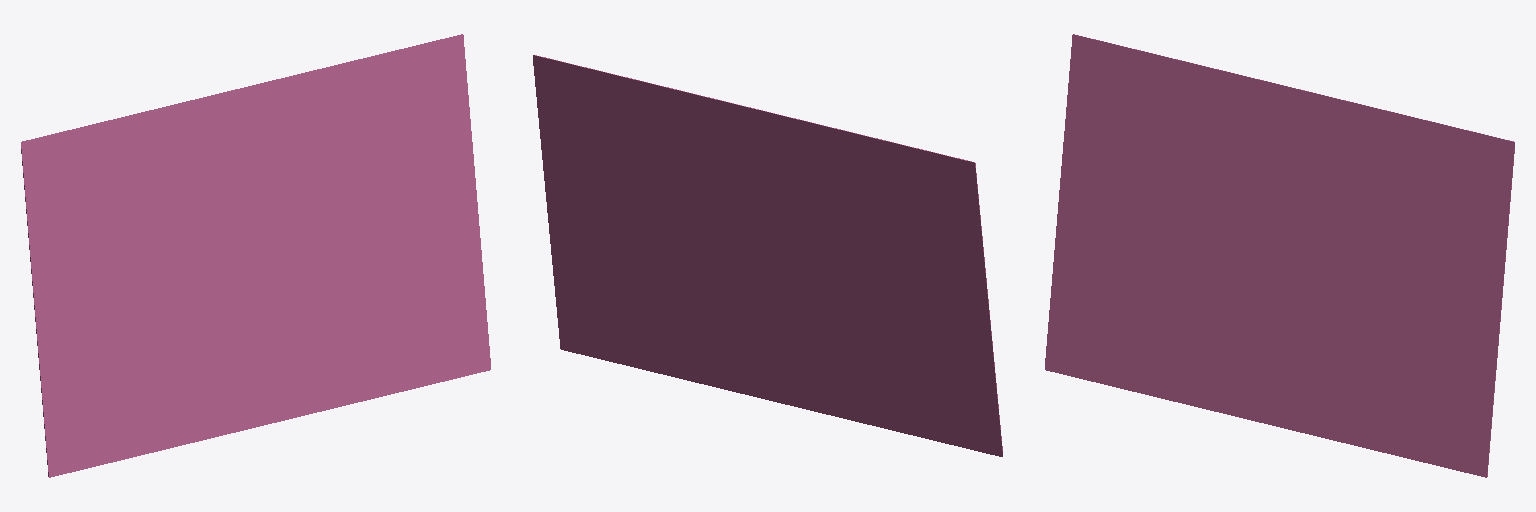
The robot description file, URDF, robot "rsc":
<?xml version="1.0" encoding="utf-8"?>
<robot name="rsc">

  <!-- Define materials -->
<material name="blue">
  <color rgba="0 0 0.8 1"/>
</material>

<material name="white">
  <color rgba="0.9 0.9 0.9 1"/>
</material>

<material name="black">
  <color rgba="0 0 0 1"/>
</material>

<material name="red">
  <color rgba="1 0 0 1"/>
</material>

<material name="yellow">
  <color rgba="1 1 0 1"/>
</material>

<material name="green">
  <color rgba="0 1 0 1"/>
</material>

<material name="orange">
  <color rgba="1 0.65 0 1"/>
</material>

<material name="purple">
  <color rgba="0.5 0 0.5 1"/>
</material>

<material name="gray">
  <color rgba="0.5 0.5 0.5 1"/>
</material>

<material name="cyan">
  <color rgba="0 1 1 1"/>
</material>

<material name="pink">
  <color rgba="1 0.75 0.8 1"/>
</material>

<material name="joy">
  <texture filename="package://my_robot_sim/textures/joy.png"/>
</material>

<material name="anger">
  <texture filename="package://my_robot_sim/textures/anger.png"/>
</material>

<material name="pride">
  <texture filename="package://my_robot_sim/textures/pride.png"/>
</material>

<material name="surprise">
  <texture filename="package://my_robot_sim/textures/surprise.png"/>
</material>

<material name="caring">
  <texture filename="package://my_robot_sim/textures/caring.png"/>
</material>

<material name="fun">
  <texture filename="package://my_robot_sim/textures/fun.png"/>
</material>

  <!-- Base Link -->
  <link name="base_link">
    <visual>
      <origin xyz="-0.6 0.44 0.4" rpy="1.5708 0 0"/>
      <geometry>
        <mesh filename="package://my_robot_sim/meshes/body2.STL" scale="0.01 0.01 0.01" />
      </geometry>
      <material name="blue"/>
    </visual>
    <collision>
      <geometry>
        <mesh filename="package://my_robot_sim/meshes/body2.STL" scale="0.01 0.01 0.01" />
      </geometry>
    </collision>
  </link>

  <!-- Arm 1 Link -->
  <link name="arm_1">
    <visual>
      <origin xyz="-0.55 -0.19 -0.55" rpy="-1.5708 3.14 0"/> <!-- Define the visual origin of arm_1 -->
      <geometry>
        <mesh filename="package://my_robot_sim/meshes/rsc_flipperv8.STL" scale="0.01 0.01 0.01"/>
      </geometry>
      <material name="white"/>
    </visual>
    <collision>
      <geometry>
        <mesh filename="package://my_robot_sim/meshes/rsc_flipperv8.STL" scale="0.01 0.01 0.01"/>
      </geometry>
    </collision>
  </link>

  <!-- Joint for Arm 1 Rotation Around X-Axis Center -->
  <joint name="arm1_to_pivot" type="continuous">
    <parent link="base_link"/>
    <child link="arm_1"/>
    <origin xyz="0 0.05 0.9" rpy="0 0 0"/> <!-- Center the rotation around arm_1’s origin -->
    <axis xyz="1 0 0"/> <!-- Set rotation around x-axis -->
  </joint>





  <!-- Arm 2 Link -->
  <link name="arm_2">
    <visual>
    <origin xyz="+0.55 0.19 -0.55" rpy="1.5708 0 0"/>
      <geometry>
        <mesh filename="package://my_robot_sim/meshes/rsc_flipperv8.STL" scale="0.01 0.01 0.01"/>
      </geometry>
      <material name="white"/>
    </visual>
    <collision>
      <geometry>
        <mesh filename="package://my_robot_sim/meshes/rsc_flipperv8.STL" scale="0.01 0.01 0.01"/>
      </geometry>
    </collision>
  </link>

  <!-- Joint for Arm 1 Rotation Around X-Axis Center -->
  <joint name="arm2_to_pivot" type="continuous">
    <parent link="base_link"/>
    <child link="arm_2"/>
    <origin xyz="0 0.05 0.9" rpy="0 0 0"/> <!-- Center the rotation around arm_1’s origin -->
    <axis xyz="1 0 0"/> <!-- Set rotation around x-axis -->
  </joint>

  <link name="base">
    <visual>
      <origin xyz="-0.55 0.6 0.09" rpy="1.5708 0 0"/>
      <geometry>
        <mesh filename="package://my_robot_sim/meshes/base.STL" scale="0.01 0.01 0.01" />
      </geometry>
      <material name="blue"/>
    </visual>
    <collision>
      <geometry>
        <mesh filename="package://my_robot_sim/meshes/base.STL" scale="0.01 0.01 0.01" />
      </geometry>
    </collision>
  </link>
  
  <joint name="base_to_body" type="fixed">
     <parent link="base" />
     <child link="base_link" />
     <origin xyz="0 0 0" rpy="0 0 0" />
</joint>

  <link name="cornice">
    <visual>
      <origin xyz="-0.458 -0.20 0.42" rpy="1.39 0 0"/>
      <geometry>
        <mesh filename="package://my_robot_sim/meshes/cornice.STL" scale="0.01 0.01 0.01" />
      </geometry>
      <material name="white"/>
    </visual>
    <collision>
      <geometry>
        <mesh filename="package://my_robot_sim/meshes/cornice.STL" scale="0.01 0.01 0.01" />
      </geometry>
    </collision>
  </link>
  
  <joint name="cornice_to_body" type="fixed">
     <parent link="base_link" />
     <child link="cornice" />
     <origin xyz="0 0 0" rpy="0 0 0" />
</joint>

  <link name="screen">
    <visual>
      <origin xyz="-0.377 -0.25 0.5295" rpy="1.39 0 0"/>
      <geometry>
        <mesh filename="package://my_robot_sim/meshes/screen.STL" scale="0.01 0.01 0.01" />
      </geometry>
      <material name="black"/>
    </visual>
    <collision>
      <geometry>
        <mesh filename="package://my_robot_sim/meshes/screen.STL" scale="0.01 0.01 0.01" />
      </geometry>
    </collision>
  </link>
  
  <joint name="screen_to_body" type="fixed">
     <parent link="base_link" />
     <child link="screen" />
     <origin xyz="0 0 0" rpy="0 0 0" />
</joint>

<link name="image">
    <visual>
      <origin xyz="0 -0.45 0.7" rpy="1.5708 -1.5708 0"/>
      <geometry>
        <box size="0.4 0.58 0.001"/>
      </geometry>
      <material name="pride"/>
    </visual>
  </link>
  
  <joint name="image_to_body" type="fixed">
     <parent link="base_link" />
     <child link="image" />
     <origin xyz="0 0 0" rpy="-0.16 0 0" />
</joint>

  <link name="piattello">
    <visual>
      <origin xyz="-0.543 0.44 0.96" rpy="1.5708 0 0"/>
      <geometry>
        <mesh filename="package://my_robot_sim/meshes/piattello_button.STL" scale="0.01 0.01 0.01" />
      </geometry>
      <material name="white"/>
    </visual>
    <collision>
      <geometry>
        <mesh filename="package://my_robot_sim/meshes/piattello_button.STL" scale="0.01 0.01 0.01" />
      </geometry>
    </collision>
  </link>
  
  <joint name="piattello_to_body" type="fixed">
     <parent link="base_link" />
     <child link="piattello" />
     <origin xyz="0 0 0" rpy="0 0 0" />
</joint>

  <link name="button">
    <visual>
      <origin xyz="-0.3 0.4 0.78" rpy="1.5708 0 0"/>
      <geometry>
        <mesh filename="package://my_robot_sim/meshes/button.STL" scale="0.01 0.01 0.01" />
      </geometry>
      <material name="green"/>
    </visual>
    <collision>
      <geometry>
        <mesh filename="package://my_robot_sim/meshes/button.STL" scale="0.01 0.01 0.01" />
      </geometry>
    </collision>
  </link>
  
  <joint name="button_to_body" type="fixed">
     <parent link="base_link" />
     <child link="button" />
     <origin xyz="0 0 0" rpy="0 0 0" />
</joint>

  <link name="back">
    <visual>
      <origin xyz="-0.455 0.435 0.415" rpy="1.5708 0 0"/>
      <geometry>
        <mesh filename="package://my_robot_sim/meshes/back.STL" scale="0.01 0.01 0.01" />
      </geometry>
      <material name="white"/>
    </visual>
    <collision>
      <geometry>
        <mesh filename="package://my_robot_sim/meshes/back.STL" scale="0.01 0.01 0.01" />
      </geometry>
    </collision>
  </link>
  
  <joint name="back_to_body" type="fixed">
     <parent link="base_link" />
     <child link="back" />
     <origin xyz="0 0 0" rpy="0 0 0" />
</joint>



</robot>

--- What the picture shows (computed from the rendered views, not written in the file) ---
The picture shows the robot from 3 angles, left to right: view 1: azimuth 30°, elevation 25°; view 2: azimuth 150°, elevation 25°; view 3: azimuth 330°, elevation 25°; orthographic projection.
Robot: rsc — 10 links, 9 joints (2 continuous, 7 fixed); root link base; default pose: all joints at 0.
Links seen in each view (by area): view 1: image; view 2: image; view 3: image.
Link boxes in pixels (bbox=[...]): image: bbox=[21, 34, 490, 477]; image: bbox=[533, 55, 1002, 456]; image: bbox=[1045, 34, 1514, 477].
Size in the robot's own frame: 0.58 by 0.0647 by 0.3951 metres.
0 mesh visuals loaded from 8 distinct referenced files (none loaded); not drawn: 9 (reference not matched to a file when rendering).